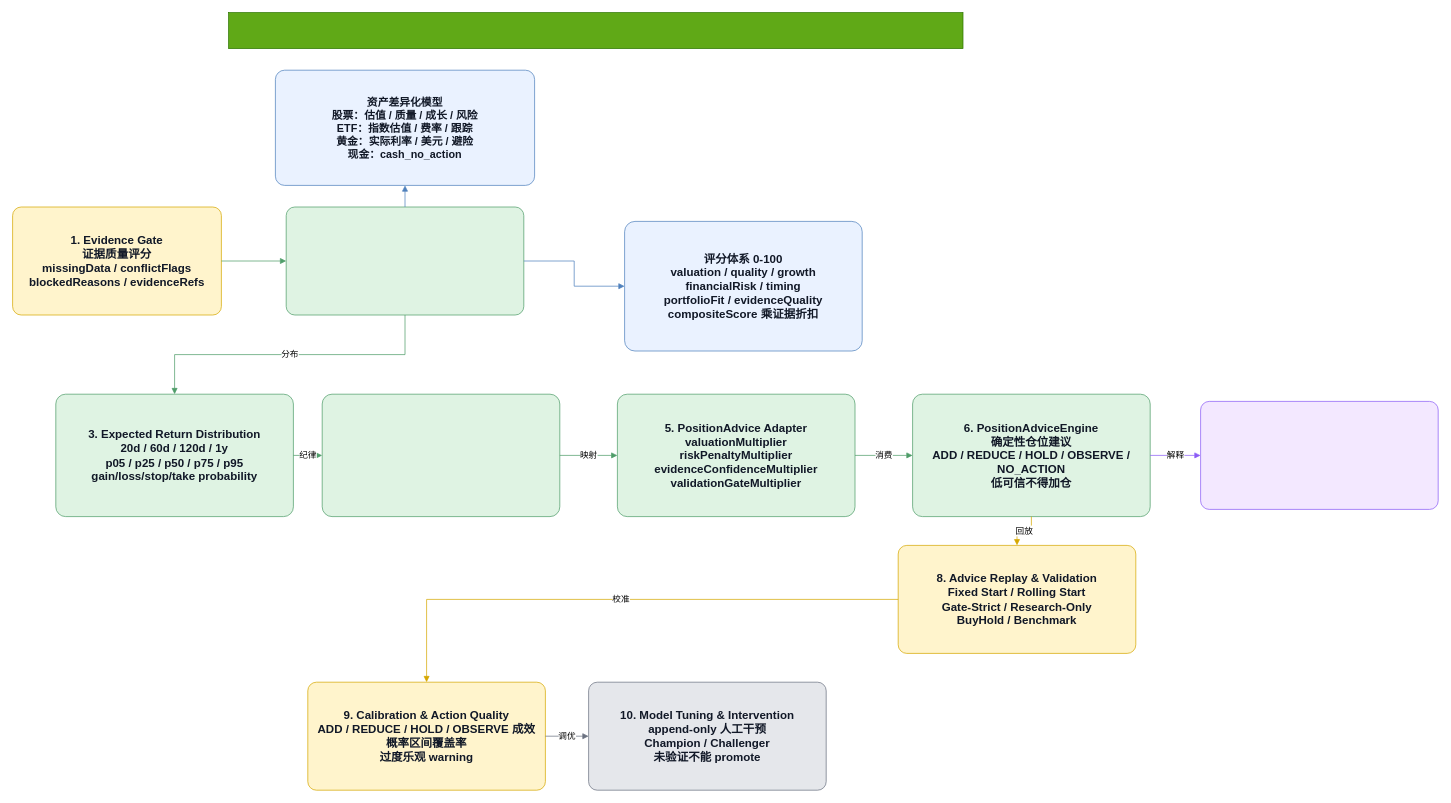
The diagram is 1451 pixels wide and 803 high, and some of its shapes have lost their labels. The box of each missing label's shape, as (x1, y1, x2, y2) in pixels:
2. Investment Valuation Model 股票 / ETF / 基金 / 债基 / 黄金 / 现金 输出 thesisType 与评分: (285, 206, 524, 315)
4. Trading Discipline Engine core：回撤预算与低换手 satellite：有效期、止损、止盈 cash：no_action: (321, 393, 560, 517)
7. AI Explanation Layer 解释评分、缺口、风险、复核触发 不新增模型未支持的交易结论: (1200, 401, 1438, 509)
FIVD-R 模型分层与关联关系: (228, 12, 963, 49)
